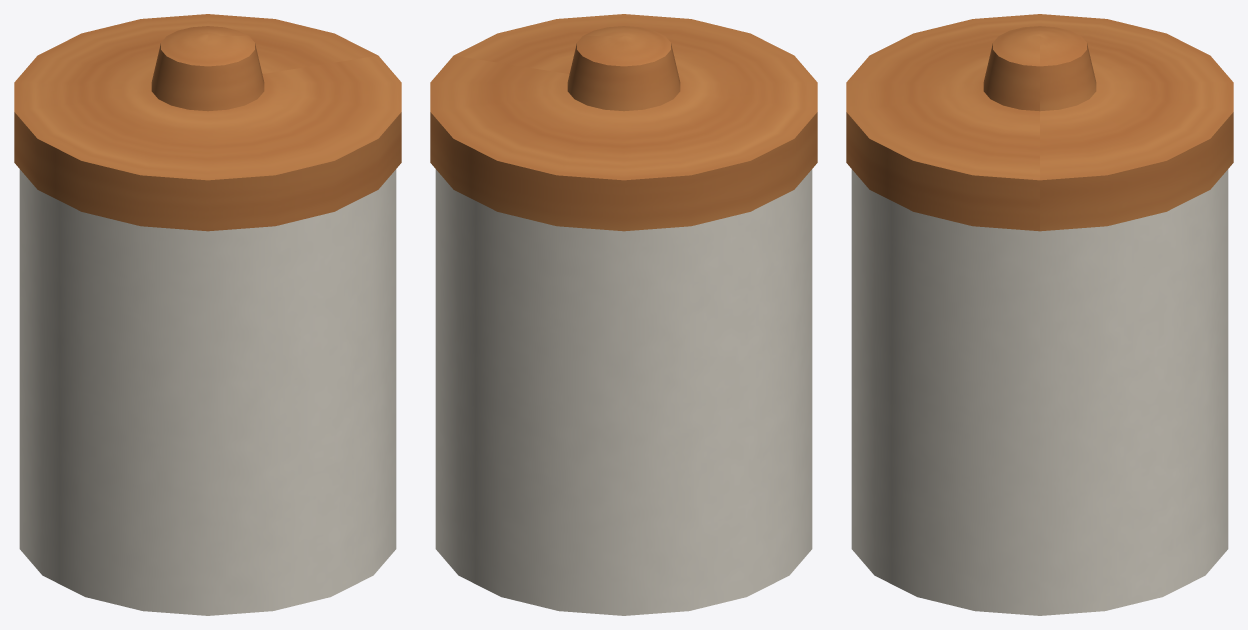
The model's file is SM_Canister_L.fbx.
The picture shows the model from 3 angles, left to right: view 1: azimuth 30°, elevation 25°; view 2: azimuth 150°, elevation 25°; view 3: azimuth 270°, elevation 25°; orthographic projection.
Parts seen in each view (by area): view 1: SM_Canister_L; view 2: SM_Canister_L; view 3: SM_Canister_L.
Part boxes in pixels (x1=…): SM_Canister_L: x1=14, y1=14, x2=401, y2=615; SM_Canister_L: x1=430, y1=14, x2=817, y2=615; SM_Canister_L: x1=846, y1=14, x2=1233, y2=615.
Size of the model in its own units: 0.1751 by 0.245 by 0.1724.
Materials: 2 (2 with a texture image).
